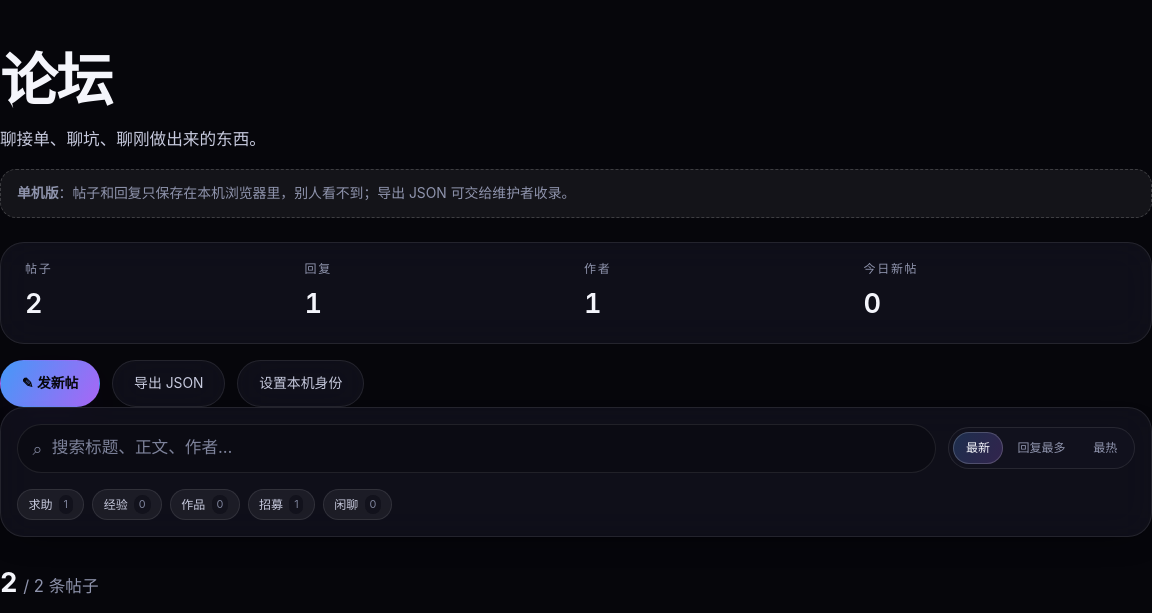
Test: ForumPage › 没有本机身份时提示先去设置，并且不能发布
What coordinates should you click on to do the following:
click the button "✎ 发新帖"
I would click on:
 (50, 383)
Its box is [0,360,100,406].
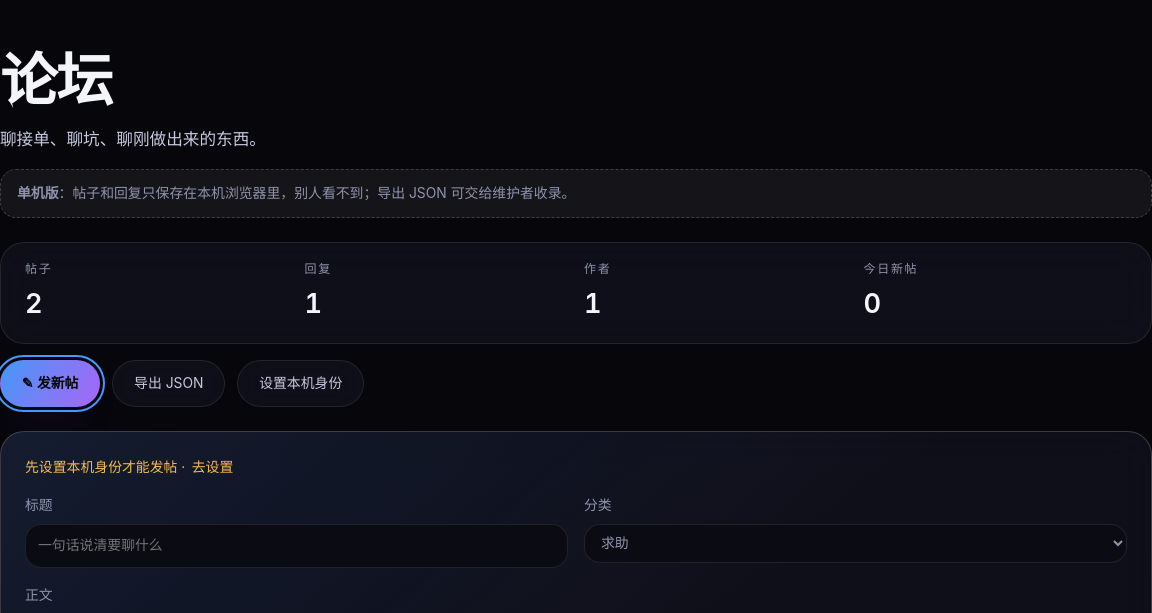
Check: the text "先设置本机身份才能发帖 · 去设置" is shown, box [25,458,233,474]
Check: the link "去设置" is shown, box [192,456,233,478]
